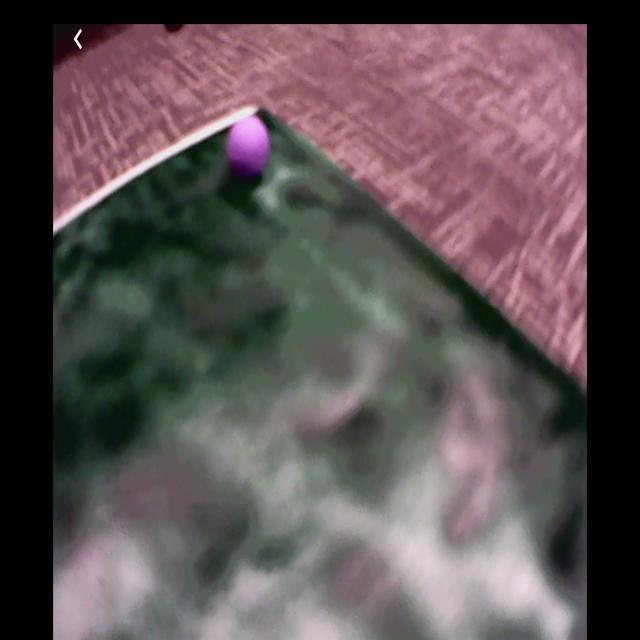ball: (229, 117, 272, 178)
